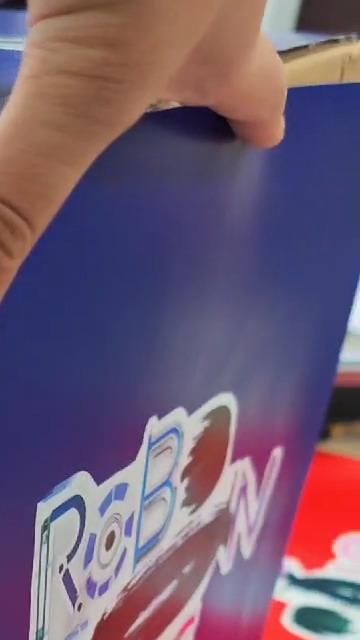B_R1: (9, 343, 289, 640)
